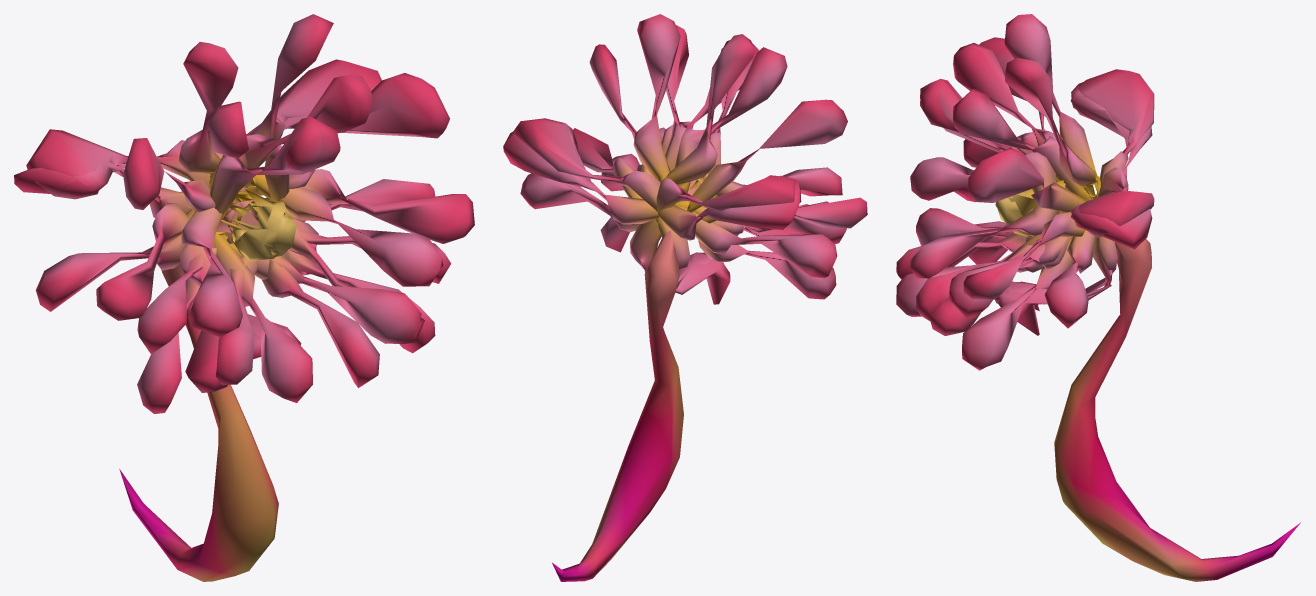
The picture shows the model from 3 angles, left to right: view 1: azimuth 30°, elevation 25°; view 2: azimuth 150°, elevation 25°; view 3: azimuth 270°, elevation 25°; orthographic projection. The views are drawn at different scales.
Visible parts, largest first — view 1: LOD 2_6177960798552739207_be88dc6aca4bb1643b5be1f29ec8d7a3; view 2: LOD 2_6177960798552739207_be88dc6aca4bb1643b5be1f29ec8d7a3; view 3: LOD 2_6177960798552739207_be88dc6aca4bb1643b5be1f29ec8d7a3.
Part boxes in pixels (bbox=[...]): LOD 2_6177960798552739207_be88dc6aca4bb1643b5be1f29ec8d7a3: bbox=[14, 14, 474, 581]; LOD 2_6177960798552739207_be88dc6aca4bb1643b5be1f29ec8d7a3: bbox=[503, 14, 867, 581]; LOD 2_6177960798552739207_be88dc6aca4bb1643b5be1f29ec8d7a3: bbox=[896, 14, 1300, 581].
Bounding box in the file's own units: 1.48 × 2.24 × 1.55.
